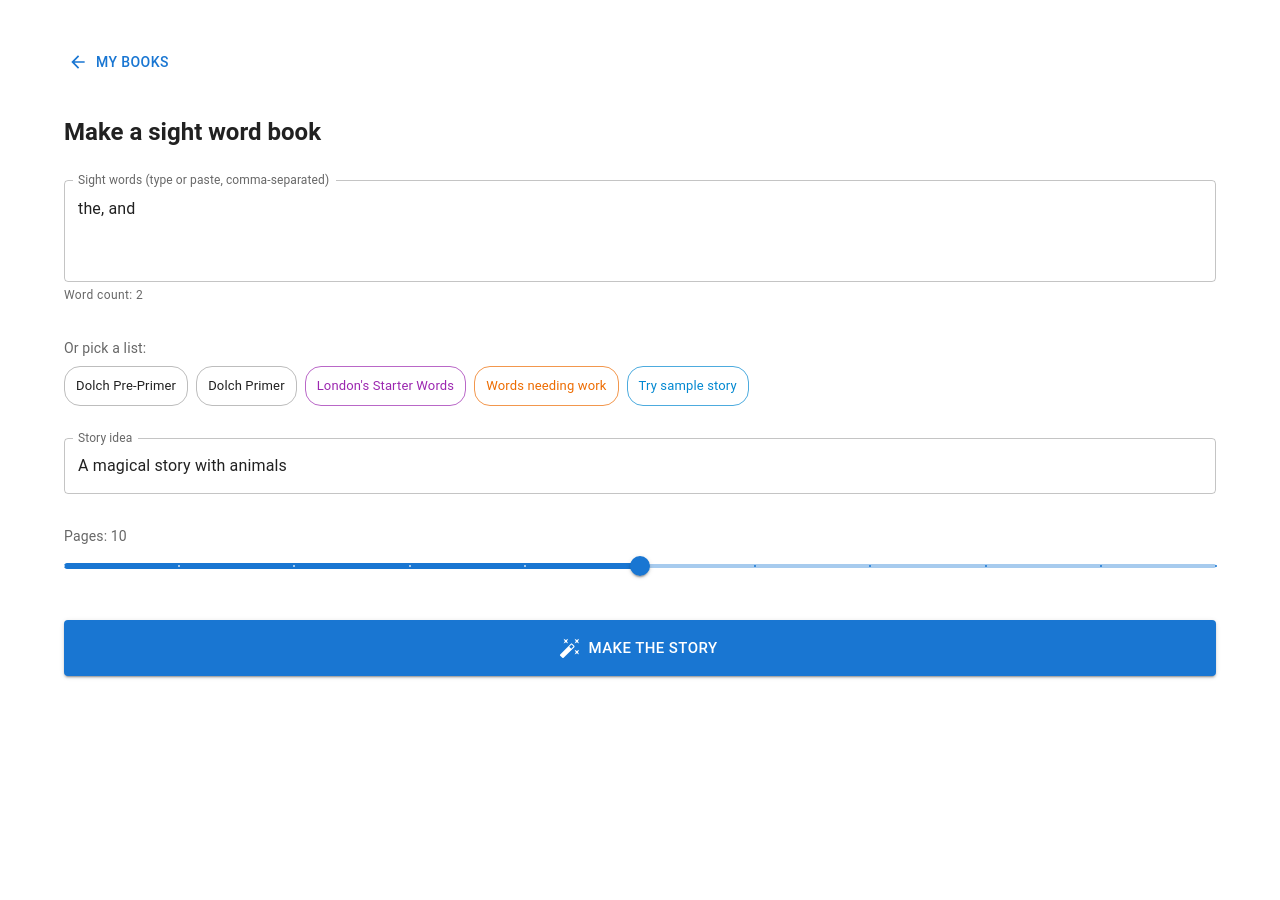
UX-117 — the screen shows the named failure › shows the message instead of leaving the screen unchanged
Click the button "Make the story" at (640, 648), box x1=64 y1=620 x2=1216 y2=676
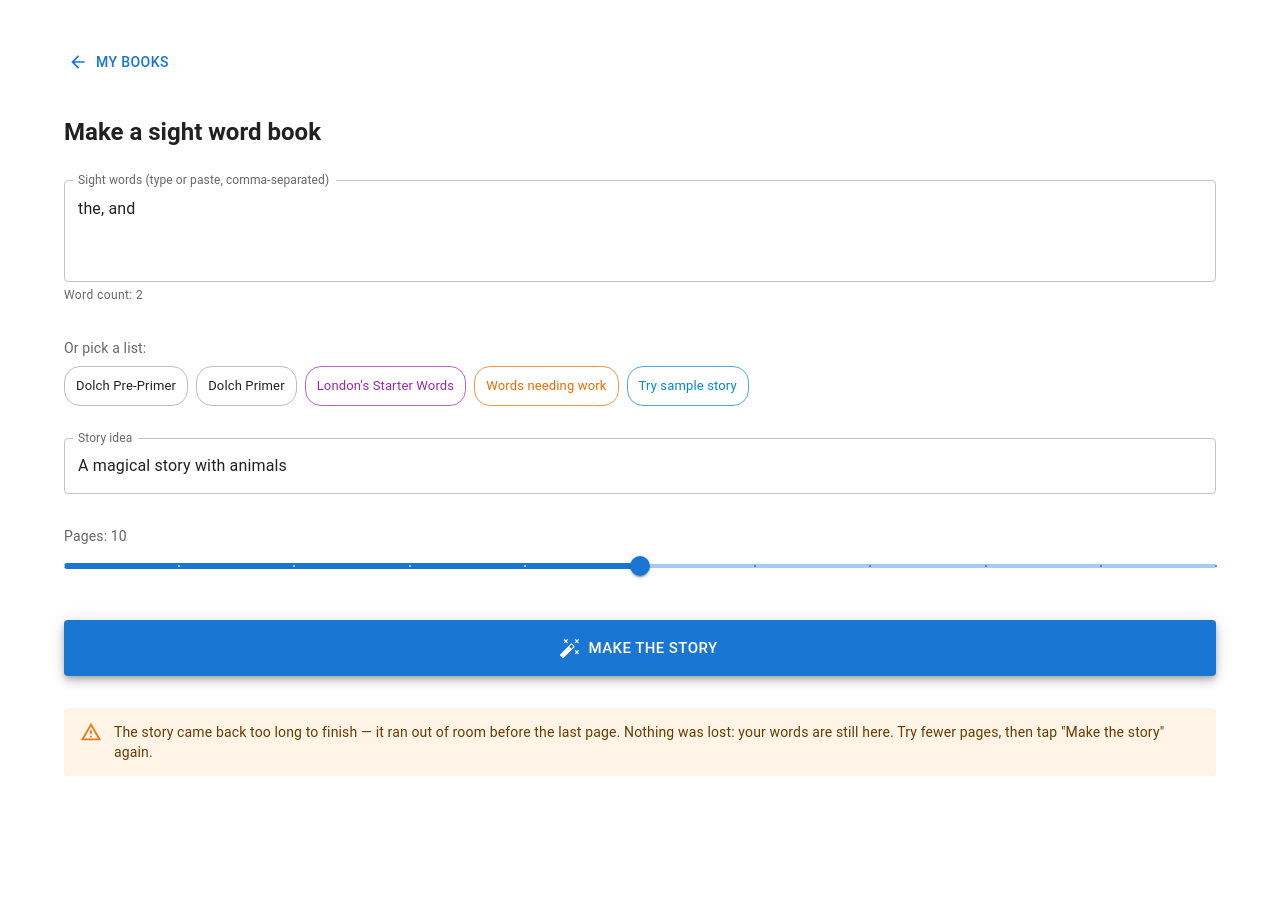
expect the text "Nothing was lost" is shown: met, box x1=114 y1=724 x2=1164 y2=760
